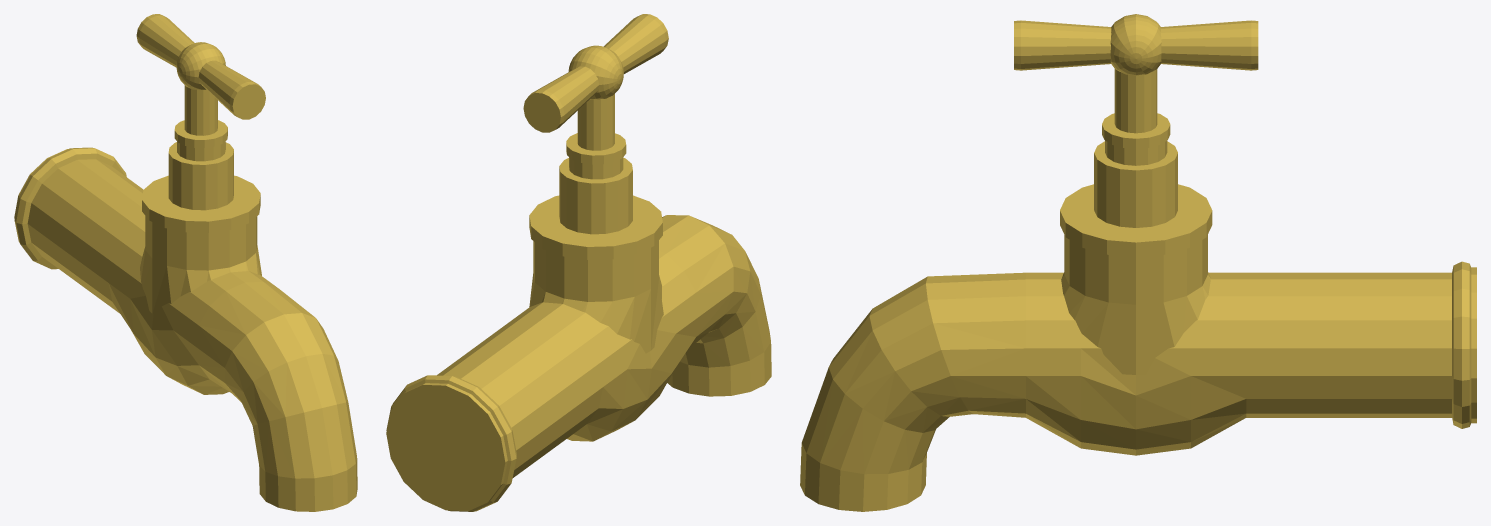
Rendered from garden-faucet.glb.
3 renders of one model, left to right at view 1: azimuth 30°, elevation 25°; view 2: azimuth 150°, elevation 25°; view 3: azimuth 270°, elevation 25°, orthographic. The views are drawn at different scales.
Bounding box in the file's own units: 4.96 × 15.28 × 20.
